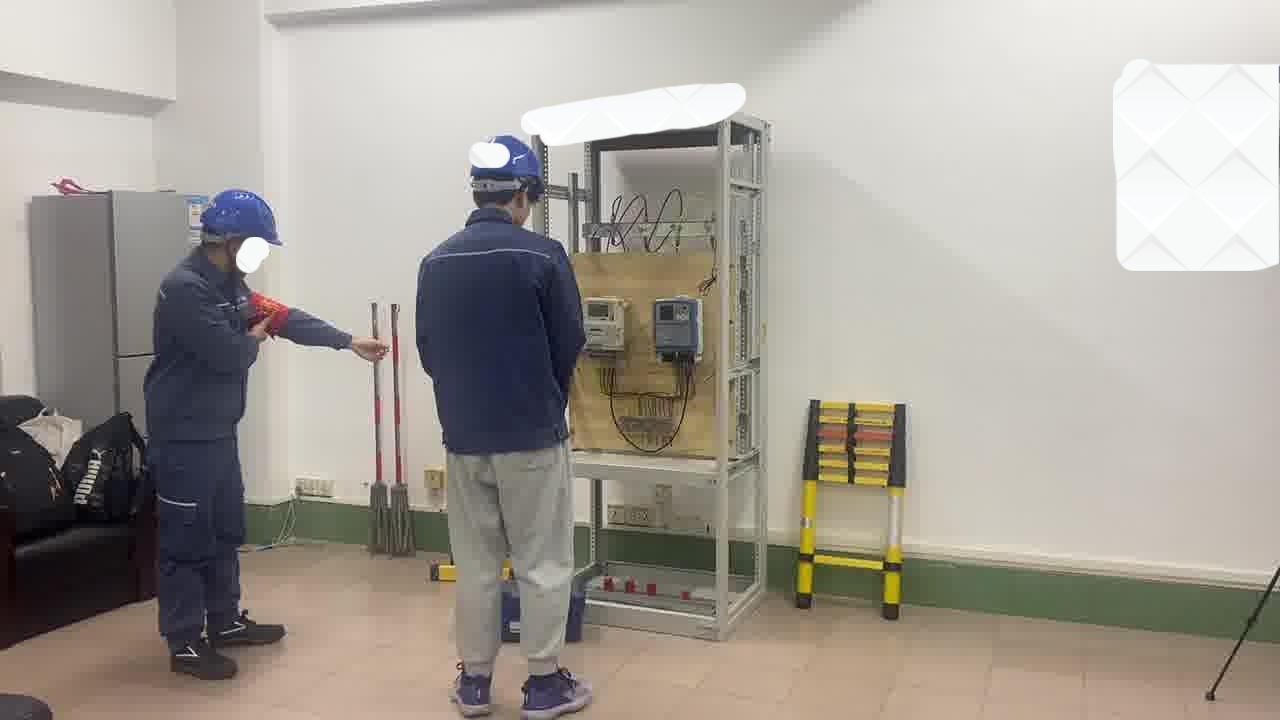halt: (200, 190, 283, 276), (468, 135, 547, 219)
inear: (221, 237, 255, 275)
noear: (513, 190, 542, 225)
